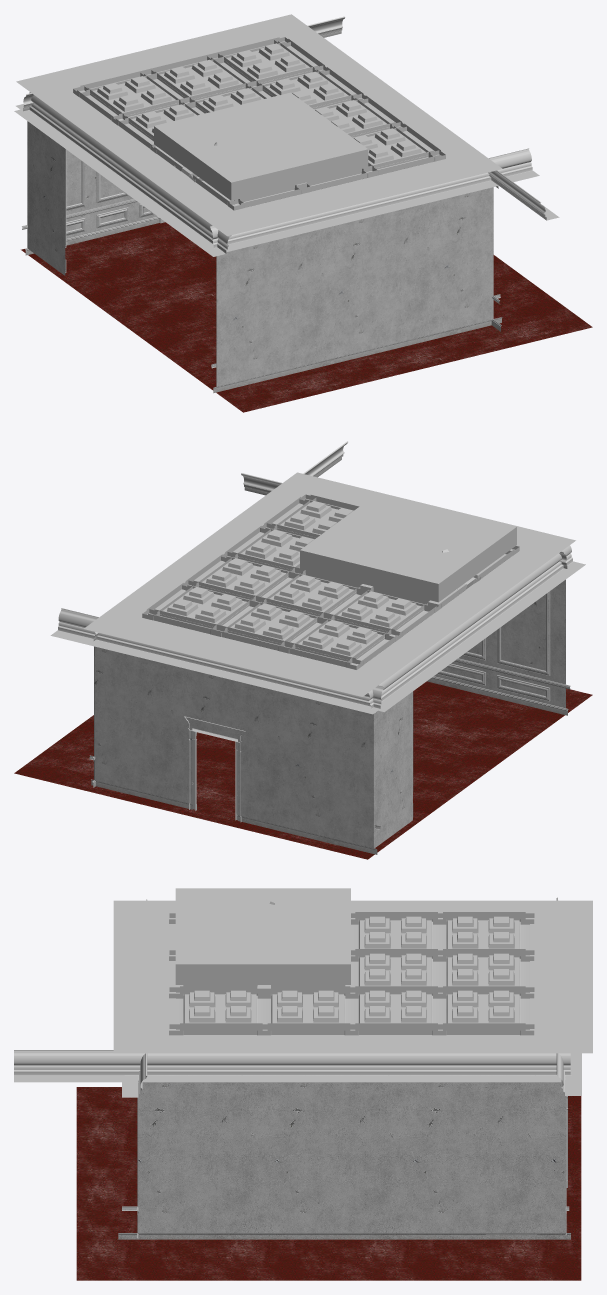
Rendered from Hotelroom1.fbx.
The picture shows the model from 3 angles, top to bottom: view 1: azimuth 30°, elevation 25°; view 2: azimuth 150°, elevation 25°; view 3: azimuth 270°, elevation 25°; orthographic projection. The views are drawn at different scales.
Parts seen in each view (by area): view 1: LODGroup_1_MainMesh_1_SubMesh_6, LODGroup_1_MainMesh_1_SubMesh_7, LODGroup_1_MainMesh_1_SubMesh_8, LODGroup_1_MainMesh_1_SubMesh_2, LODGroup_1_MainMesh_1_SubMesh_3, LODGroup_1_MainMesh_1_SubMesh_4, LODGroup_1_MainMesh_1_SubMesh_5; view 2: LODGroup_1_MainMesh_1_SubMesh_6, LODGroup_1_MainMesh_1_SubMesh_2, LODGroup_1_MainMesh_1_SubMesh_8, LODGroup_1_MainMesh_1_SubMesh_7, LODGroup_1_MainMesh_1_SubMesh_3, LODGroup_1_MainMesh_1_SubMesh_4, LODGroup_1_MainMesh_1_SubMesh_5, LODGroup_1_MainMesh_1_SubMesh_1; view 3: LODGroup_1_MainMesh_1_SubMesh_6, LODGroup_1_MainMesh_1_SubMesh_7, LODGroup_1_MainMesh_1_SubMesh_2, LODGroup_1_MainMesh_1_SubMesh_8, LODGroup_1_MainMesh_1_SubMesh_3, LODGroup_1_MainMesh_1_SubMesh_4, LODGroup_1_MainMesh_1_SubMesh_5.
Boxes of the visible parts, x1,y1,x2,y2 form: LODGroup_1_MainMesh_1_SubMesh_6: [27, 121, 493, 386]; LODGroup_1_MainMesh_1_SubMesh_7: [21, 222, 592, 412]; LODGroup_1_MainMesh_1_SubMesh_8: [16, 14, 502, 236]; LODGroup_1_MainMesh_1_SubMesh_2: [73, 37, 445, 210]; LODGroup_1_MainMesh_1_SubMesh_3: [154, 92, 368, 201]; LODGroup_1_MainMesh_1_SubMesh_4: [14, 16, 559, 256]; LODGroup_1_MainMesh_1_SubMesh_5: [22, 110, 502, 393]; LODGroup_1_MainMesh_1_SubMesh_6: [94, 579, 565, 848]; LODGroup_1_MainMesh_1_SubMesh_2: [142, 494, 519, 669]; LODGroup_1_MainMesh_1_SubMesh_8: [84, 472, 575, 696]; LODGroup_1_MainMesh_1_SubMesh_7: [14, 681, 592, 859]; LODGroup_1_MainMesh_1_SubMesh_3: [300, 493, 516, 608]; LODGroup_1_MainMesh_1_SubMesh_4: [50, 441, 585, 714]; LODGroup_1_MainMesh_1_SubMesh_5: [87, 565, 570, 854]; LODGroup_1_MainMesh_1_SubMesh_1: [184, 716, 245, 822]; LODGroup_1_MainMesh_1_SubMesh_6: [137, 1082, 566, 1233]; LODGroup_1_MainMesh_1_SubMesh_7: [76, 1087, 581, 1280]; LODGroup_1_MainMesh_1_SubMesh_2: [169, 912, 534, 1035]; LODGroup_1_MainMesh_1_SubMesh_8: [113, 900, 592, 1053]; LODGroup_1_MainMesh_1_SubMesh_3: [175, 888, 350, 993]; LODGroup_1_MainMesh_1_SubMesh_4: [14, 897, 581, 1097]; LODGroup_1_MainMesh_1_SubMesh_5: [118, 1074, 571, 1239].
Bounding box in the file's own units: 1197 × 609 × 1465.
